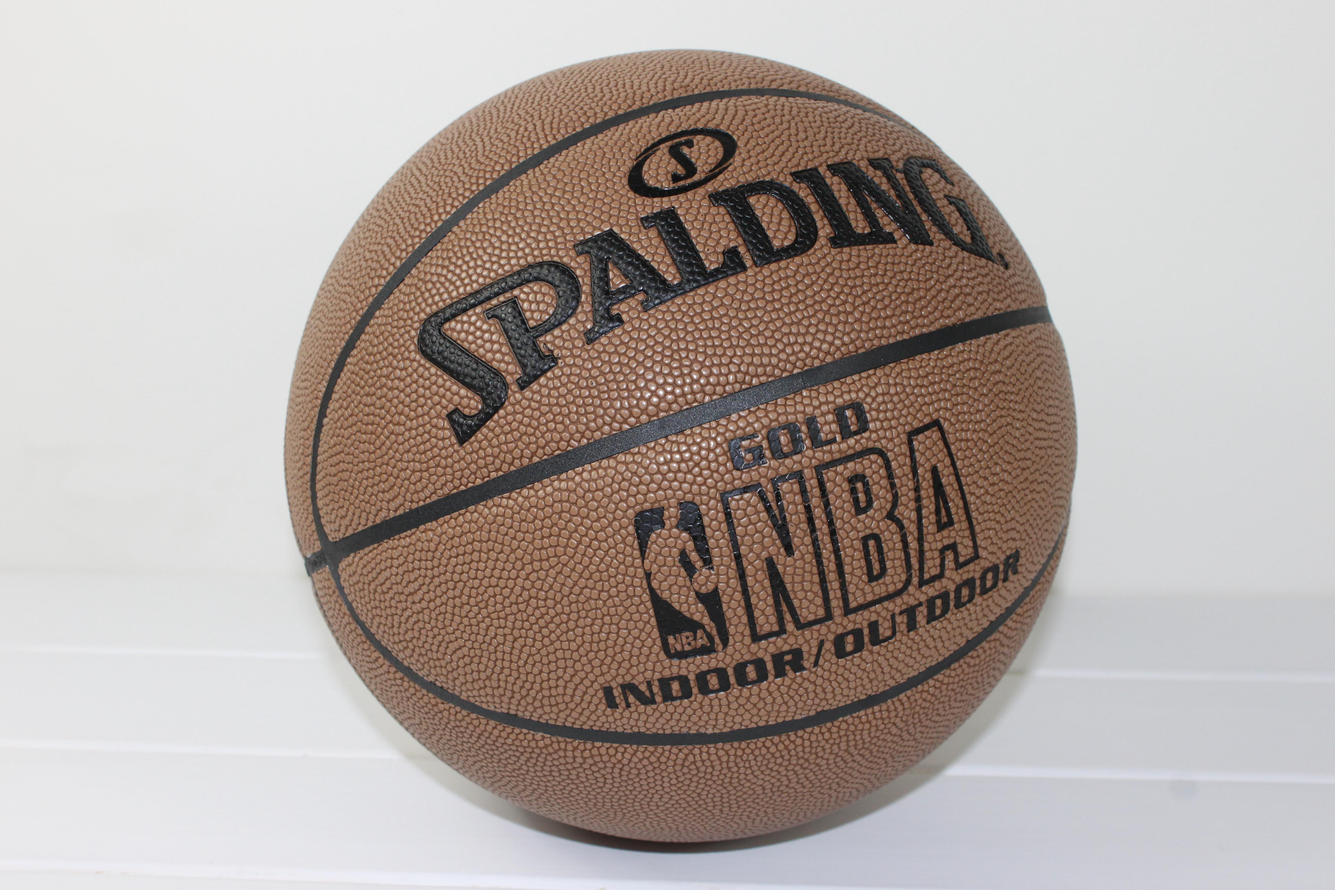ball: (283, 45, 1080, 850)
